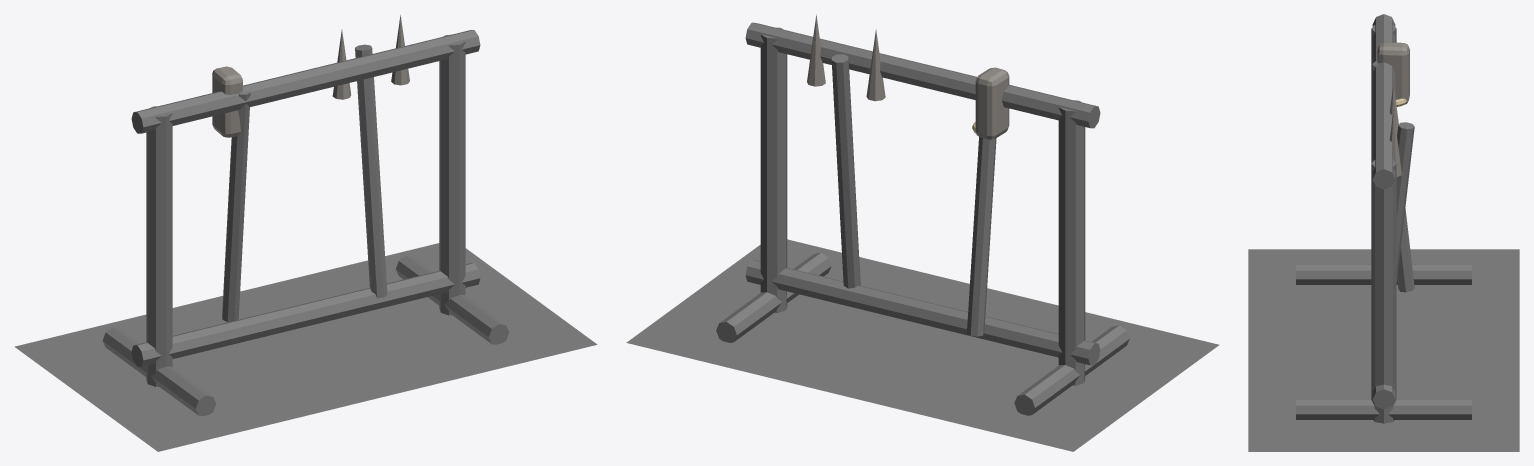
The model's file is tool-stand.glb.
The picture shows the model from 3 angles, left to right: view 1: azimuth 30°, elevation 25°; view 2: azimuth 150°, elevation 25°; view 3: azimuth 270°, elevation 25°; orthographic projection. The views are drawn at different scales.
Parts seen in each view (by area): view 1: ContactShadow, barTop, barLow, post.001, post, pickHandle, axeHandle, foot, foot.001, axeHead; view 2: ContactShadow, barLow, barTop, post, post.001, pickHandle, axeHandle, foot, foot.001, axeHead, pickTipL, pickTipR; view 3: ContactShadow, post.001, foot.001, barTop, foot, pickHandle, axeHead, axeHandle, barLow, post, pickTipR.
Boxes of the visible parts, left/top/right/bottom form: ContactShadow: left=14, top=243, right=597, bottom=451; barTop: left=131, top=30, right=480, bottom=133; barLow: left=131, top=263, right=480, bottom=366; post.001: left=439, top=34, right=465, bottom=315; post: left=146, top=106, right=172, bottom=386; pickHandle: left=355, top=44, right=387, bottom=298; axeHandle: left=222, top=90, right=250, bottom=322; foot: left=102, top=327, right=215, bottom=416; foot.001: left=396, top=256, right=509, bottom=344; axeHead: left=212, top=66, right=242, bottom=137; ContactShadow: left=626, top=239, right=1219, bottom=451; barLow: left=745, top=260, right=1100, bottom=365; barTop: left=745, top=22, right=1100, bottom=128; post: left=1058, top=100, right=1085, bottom=385; post.001: left=760, top=27, right=787, bottom=312; pickHandle: left=831, top=54, right=860, bottom=288; axeHandle: left=967, top=137, right=996, bottom=336; foot: left=1014, top=325, right=1129, bottom=415; foot.001: left=716, top=252, right=831, bottom=342; axeHead: left=975, top=67, right=1009, bottom=139; pickTipL: left=866, top=29, right=885, bottom=101; pickTipR: left=807, top=14, right=825, bottom=86; ContactShadow: left=1248, top=249, right=1519, bottom=451; post.001: left=1371, top=160, right=1396, bottom=423; foot.001: left=1296, top=399, right=1471, bottom=419; barTop: left=1372, top=14, right=1395, bottom=189; foot: left=1296, top=264, right=1471, bottom=284; pickHandle: left=1396, top=122, right=1414, bottom=281; axeHead: left=1377, top=42, right=1409, bottom=104; axeHandle: left=1372, top=61, right=1414, bottom=292; barLow: left=1372, top=384, right=1395, bottom=409; post: left=1371, top=25, right=1396, bottom=162; pickTipR: left=1389, top=111, right=1401, bottom=176.
Bounding box in the file's own units: 1.5 × 1.01 × 0.85.
5 materials, 2 textured.
